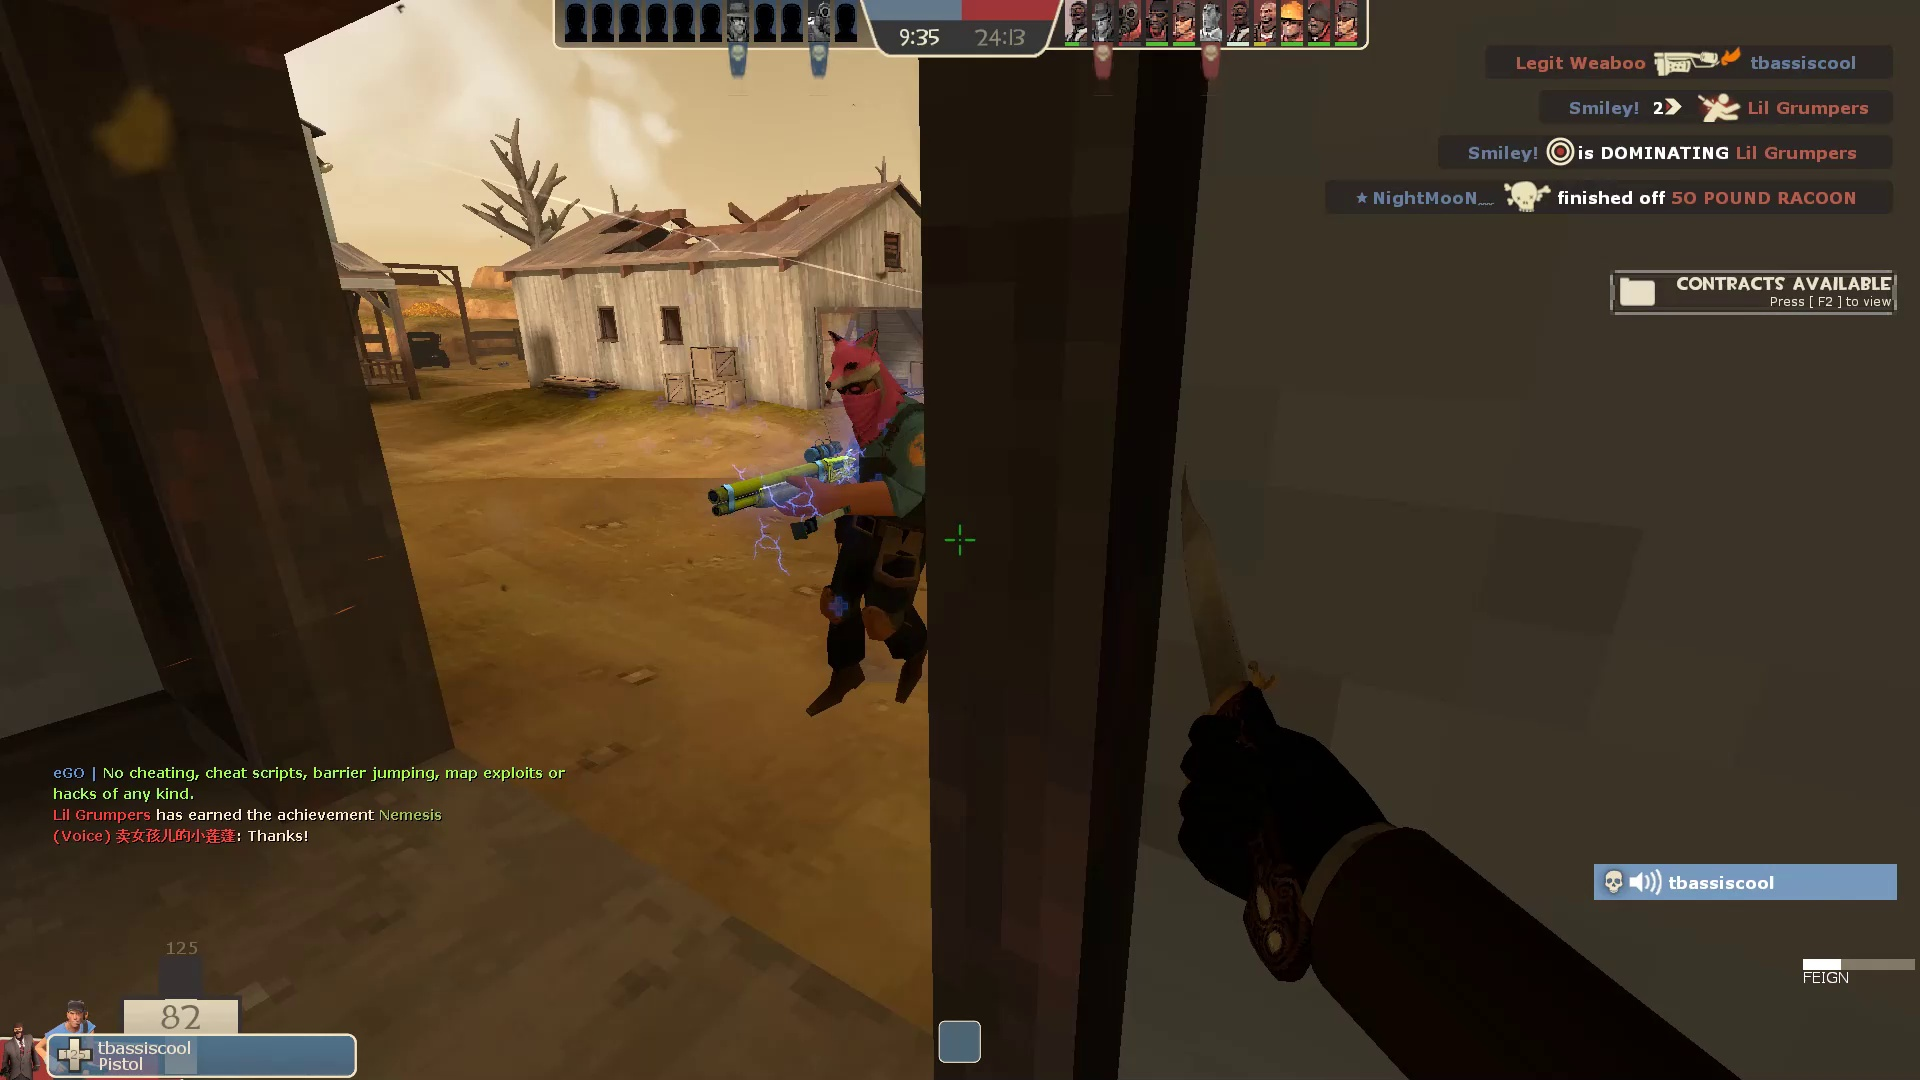blu_engineer: (700, 320, 968, 736)
